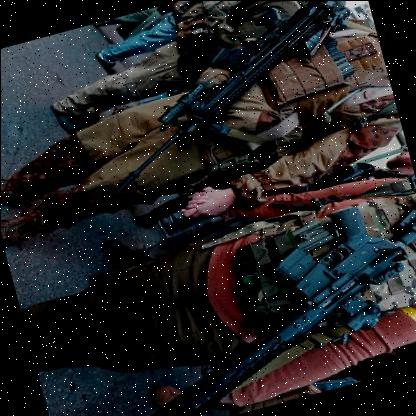rifle: (88, 170, 416, 416), (73, 0, 399, 194)
